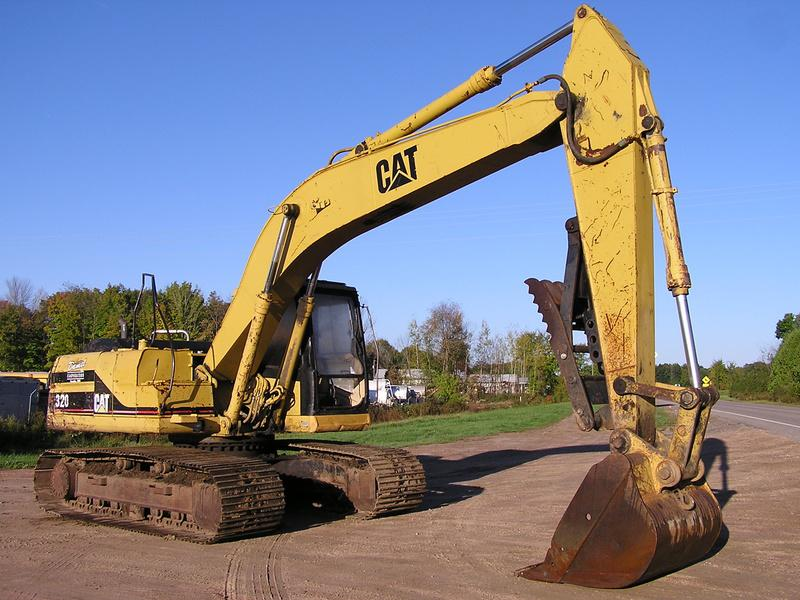shovel: (25, 6, 740, 595)
